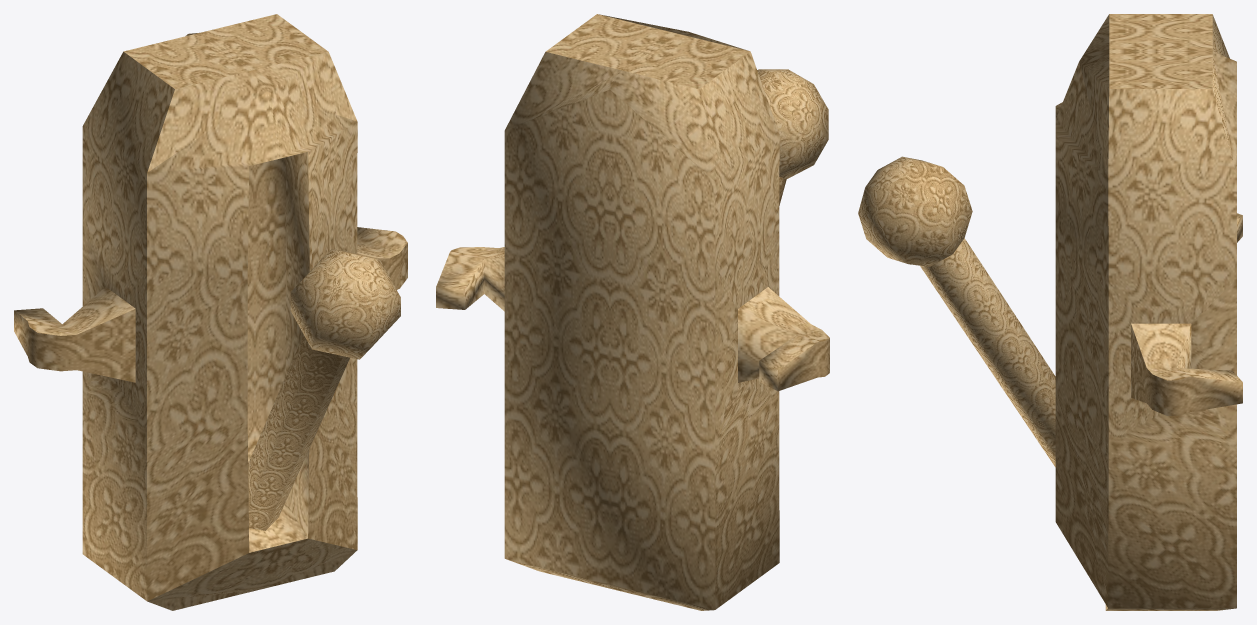
File: lever1.fbx
3 views of the same model, side by side, from view 1: azimuth 30°, elevation 25°; view 2: azimuth 150°, elevation 25°; view 3: azimuth 270°, elevation 25° (orthographic).
Parts seen in each view (by area): view 1: Cube, lever; view 2: Cube, lever; view 3: Cube, lever.
Part boxes in pixels (bbox=[...]): Cube: bbox=[14, 14, 407, 610]; lever: bbox=[248, 249, 400, 530]; Cube: bbox=[436, 14, 829, 610]; lever: bbox=[757, 69, 828, 205]; Cube: bbox=[1055, 14, 1242, 610]; lever: bbox=[858, 156, 1055, 467].
Size of the model in its own units: 158 by 210 by 141.
